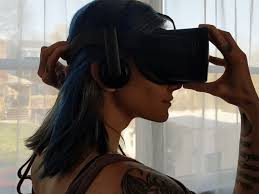oculus: (116, 24, 214, 89)
